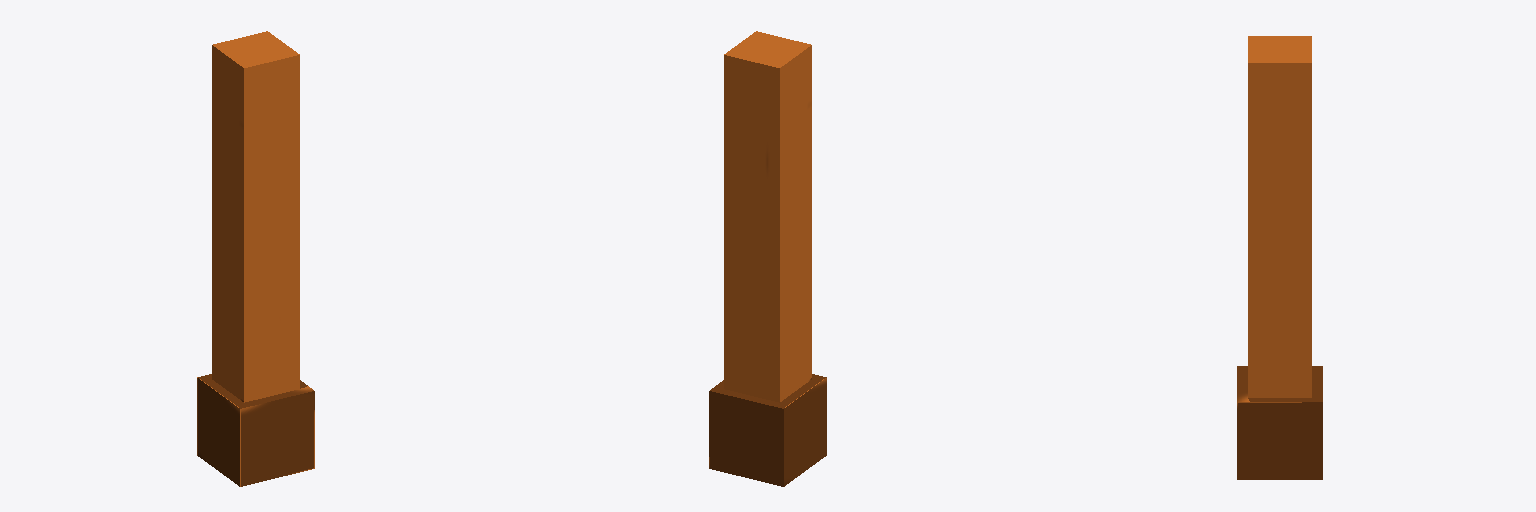
The picture shows the model from 3 angles: view 1: azimuth 30°, elevation 25°; view 2: azimuth 150°, elevation 25°; view 3: azimuth 270°, elevation 25°; orthographic projection.
Visible parts, largest first — view 1: 立方体; view 2: 立方体; view 3: 立方体.
Boxes of the visible parts, <box> form: 立方体: <box>197,31,314,486</box>; 立方体: <box>709,31,826,486</box>; 立方体: <box>1237,36,1322,479</box>.
Size of the model in its own units: 2 by 10.56 by 2.
1 materials, 1 textured.